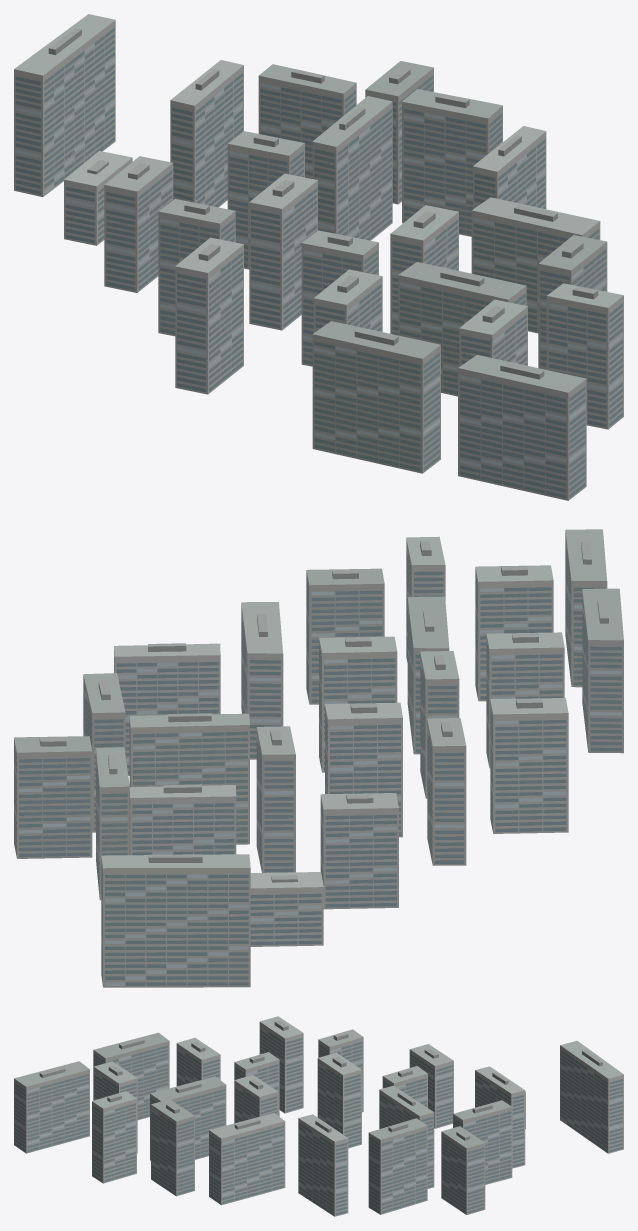
The model's file is apt-a13613007.glb.
3 views of the same model, one above another, from view 1: azimuth 30°, elevation 25°; view 2: azimuth 150°, elevation 25°; view 3: azimuth 270°, elevation 25° (orthographic). The views are drawn at different scales.
Visible parts, largest first — view 1: apt-a13613007; view 2: apt-a13613007; view 3: apt-a13613007.
Part boxes in pixels (bbox=[...]): apt-a13613007: bbox=[14, 14, 623, 500]; apt-a13613007: bbox=[14, 529, 623, 987]; apt-a13613007: bbox=[14, 1016, 623, 1216].
Bounding box in the file's own units: 189 × 55 × 387.
